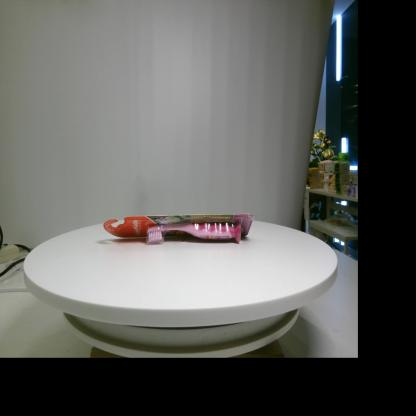Personal Hygiene: (103, 214, 254, 245)
